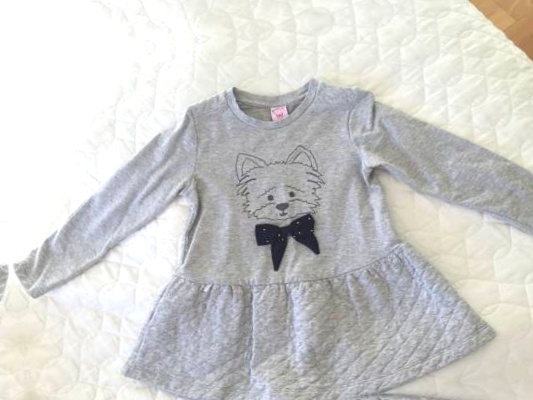Dress: (9, 54, 533, 400), (58, 372, 533, 400), (0, 140, 18, 400), (0, 0, 513, 5)
